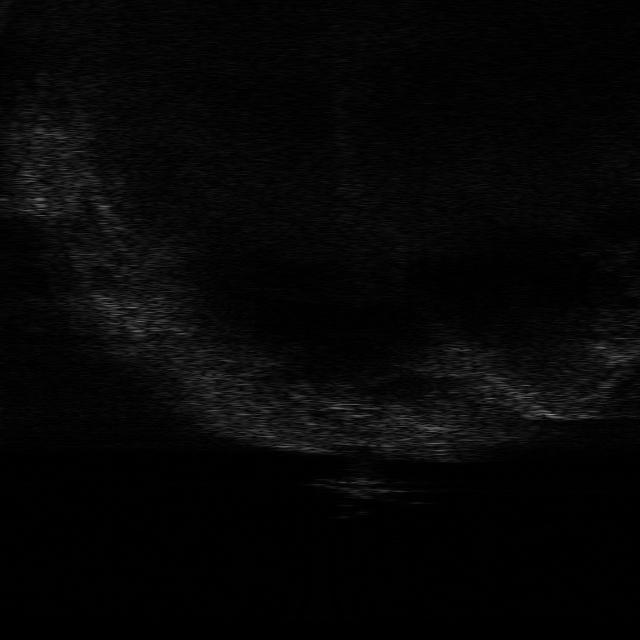plane: (305, 471, 415, 502)
